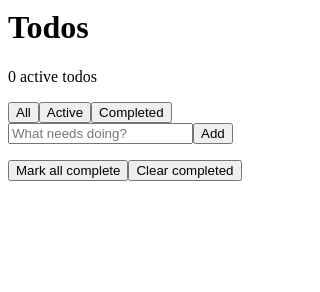
Test case: TodoApp › clears completed todos via the "Clear completed" control
The image size is (320, 292).
Type "Buy milk" into the field named "New todo" at coordinates (100, 133), box 8,123 -> 193,144
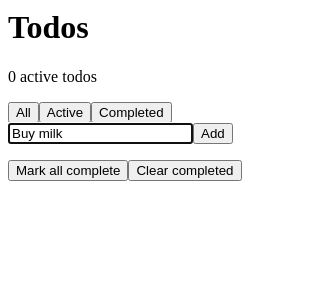
Click the button "Add" at coordinates (213, 133), box 193,123 -> 233,144
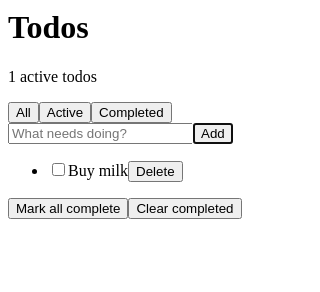
Type "Walk dog" into the field named "New todo" at coordinates (100, 133), box 8,123 -> 193,144
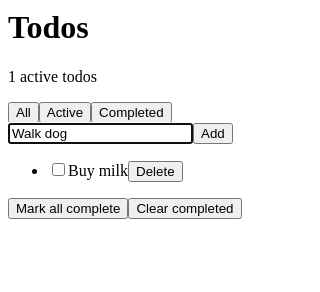
Click the button "Add" at coordinates (213, 133), box 193,123 -> 233,144
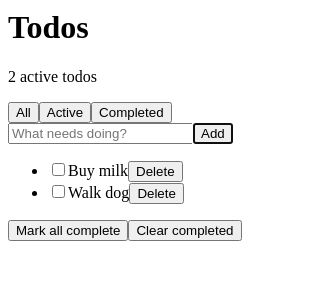
Click the checkbox labelled "Buy milk" at coordinates (58, 169), box 52,163 -> 65,176
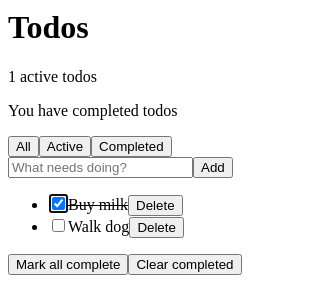
Click the button "Clear completed" at coordinates (185, 264), box 128,254 -> 242,275
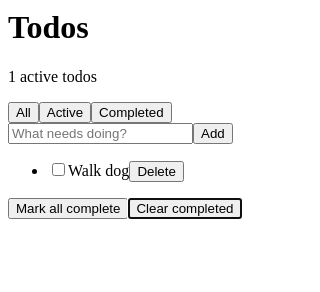
Result: the text "Walk dog" is shown at 68,162 -> 129,179
Result: the text "Buy milk" is gone
